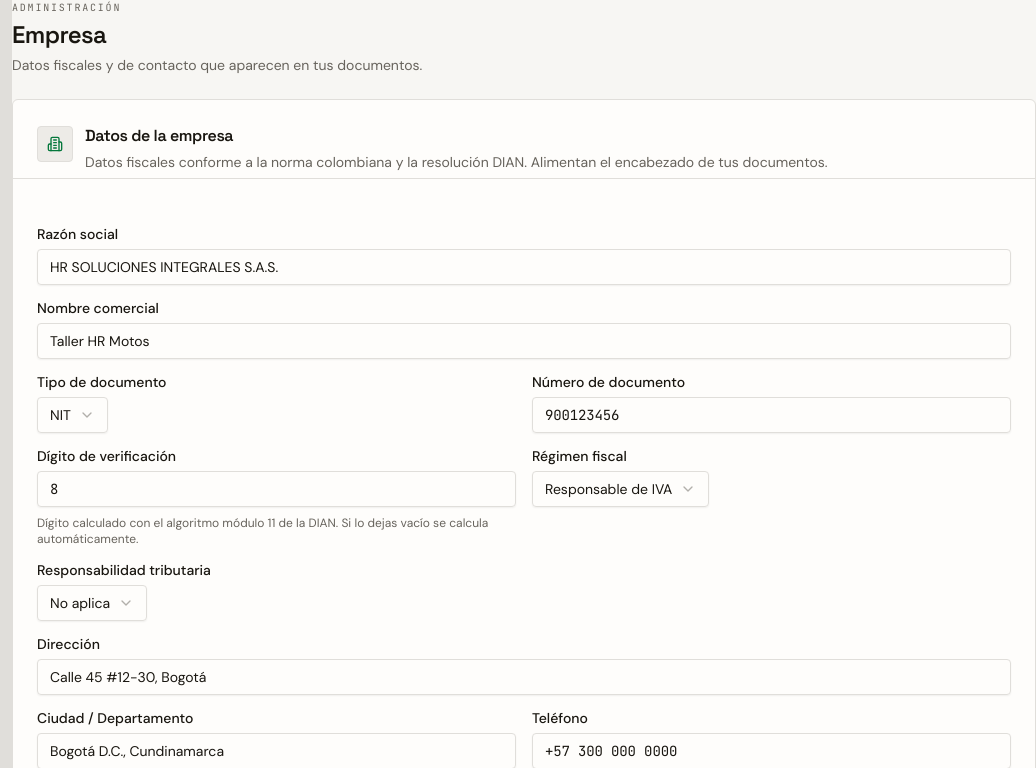
it: CompanyPage › shows the required-field messages when an incomplete form is submitted
Clear the field with test id "company.legal_name_input". click: (524, 267)
box: [37, 249, 1011, 285]
Clear the field with test id "company.tax_id_input". click: (772, 415)
box: [532, 397, 1011, 433]
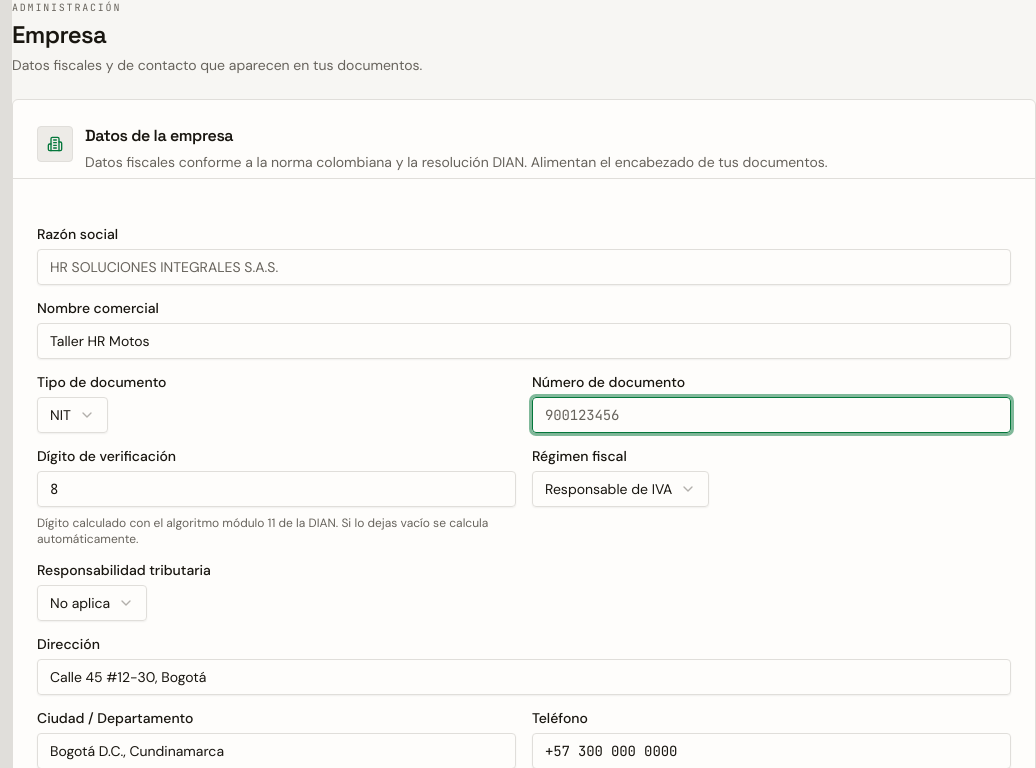
Clear the field with test id "company.address_input". click: (524, 677)
box: [37, 659, 1011, 695]
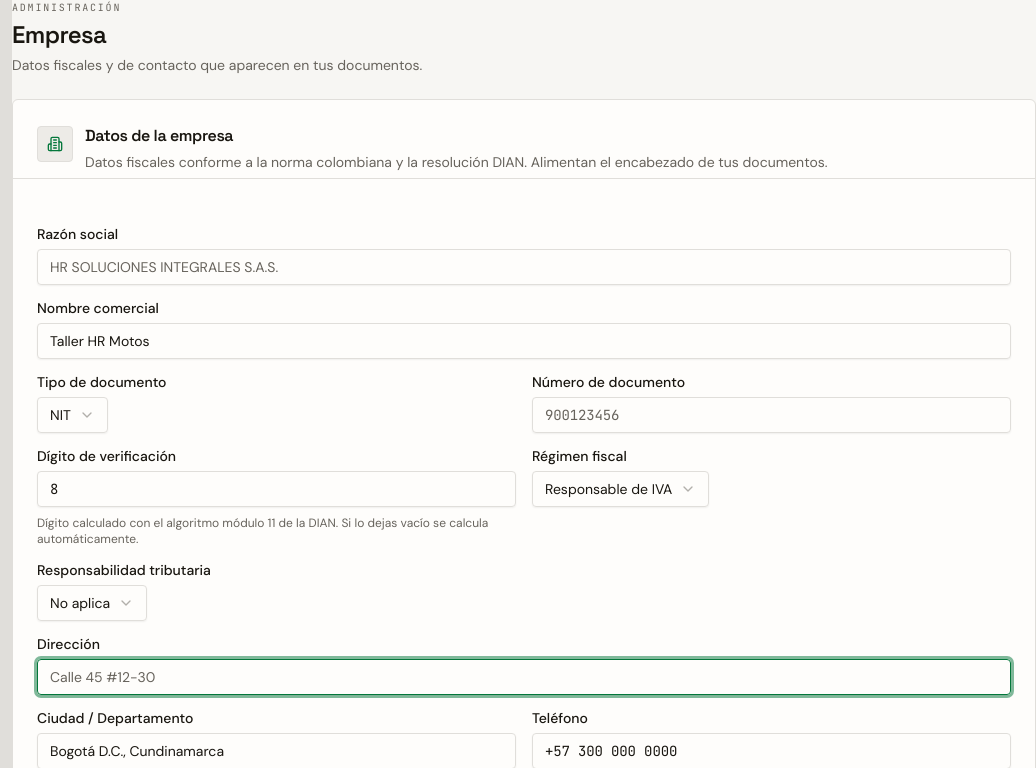
Clear the field with test id "company.city_input". click: (276, 751)
box: [37, 733, 516, 767]
(page scrolled)
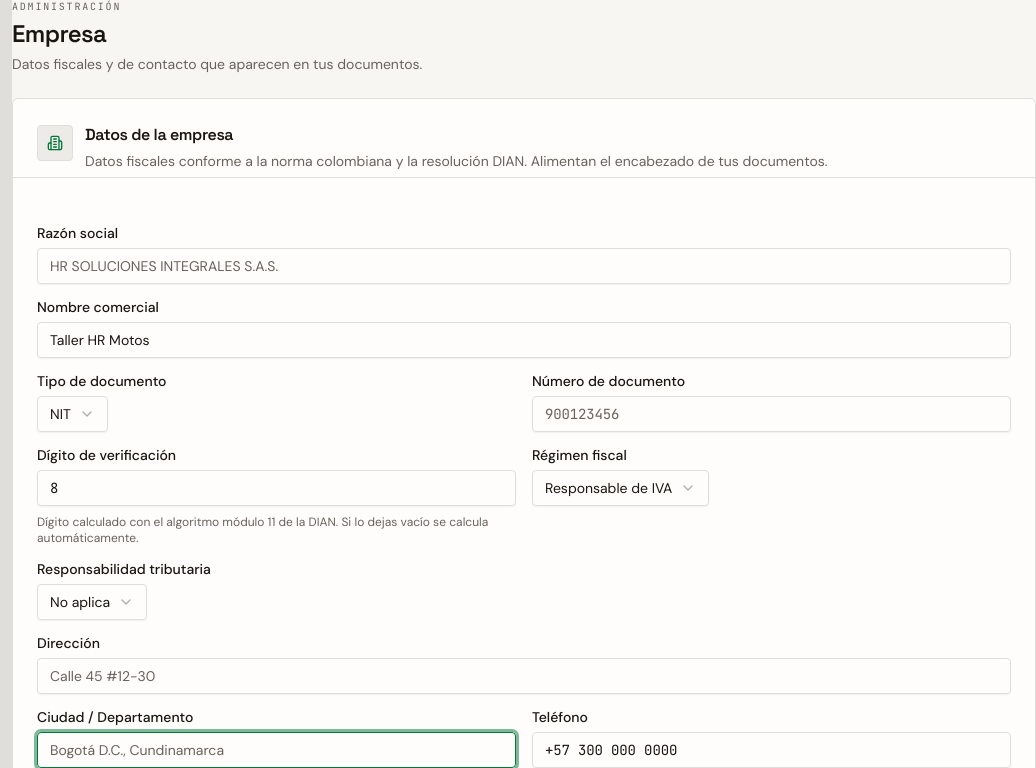
Clear the field with test id "company.phone_input". click: (772, 750)
box: [532, 732, 1011, 767]
(page scrolled)
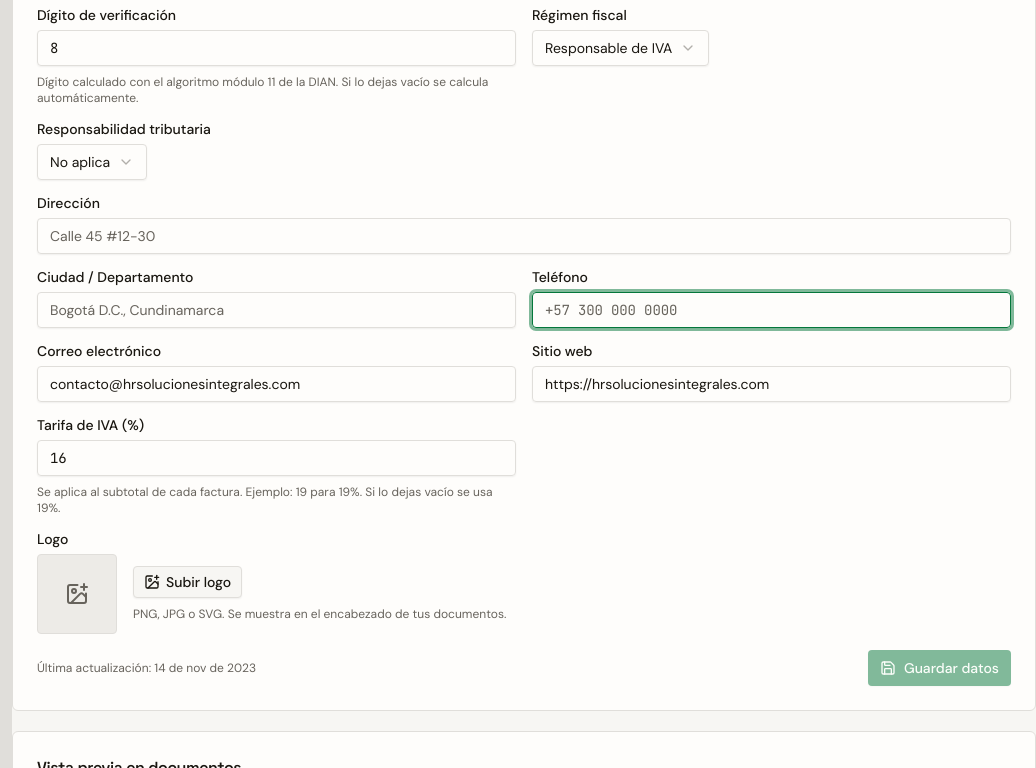
Clear the field with test id "company.email_input". click: (276, 384)
box: [37, 366, 516, 402]
(page scrolled)
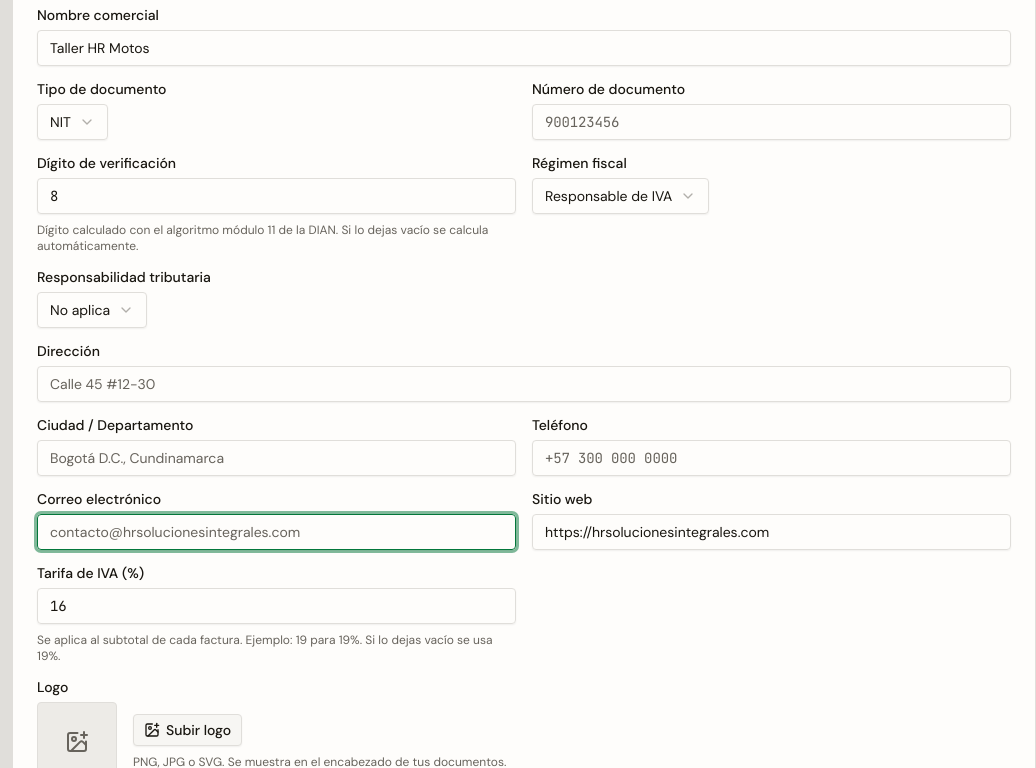
Submit the form with test id "company.form"
(page scrolled)
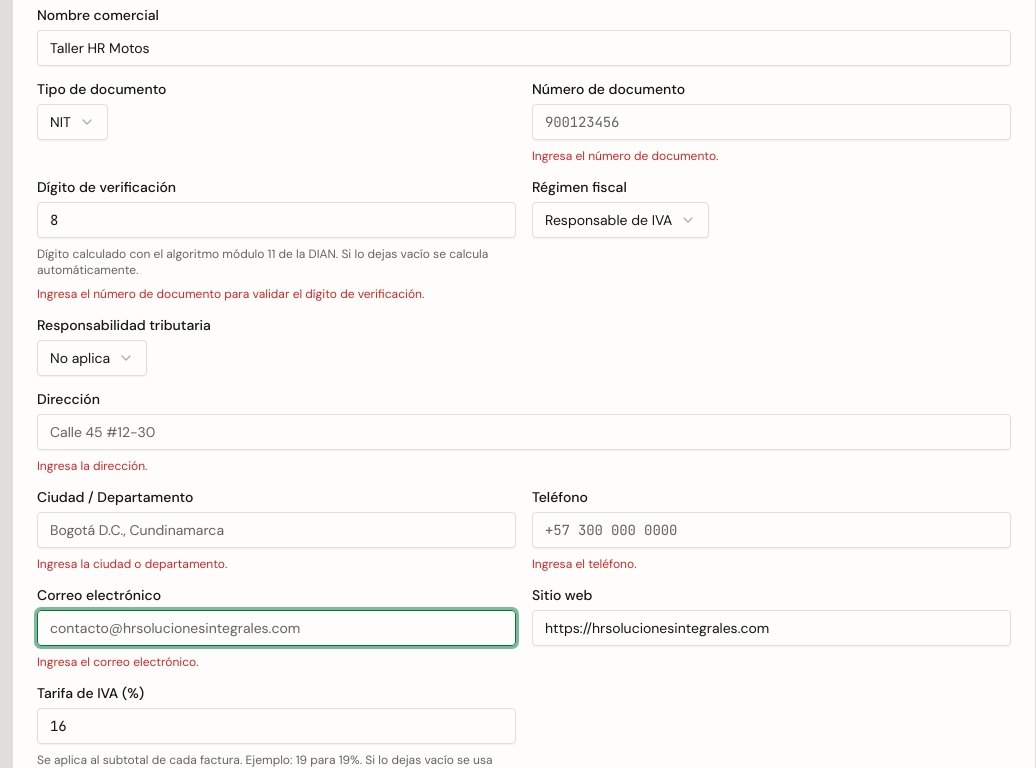
expect the text with test id "company.tax_id_error" reads "Ingresa el número de documento.": met, box [532, 148, 718, 164]
expect the text with test id "company.address_error" reads "Ingresa la dirección.": met, box [37, 458, 148, 474]
expect the text with test id "company.city_error" reads "Ingresa la ciudad o departamento.": met, box [37, 556, 227, 572]
